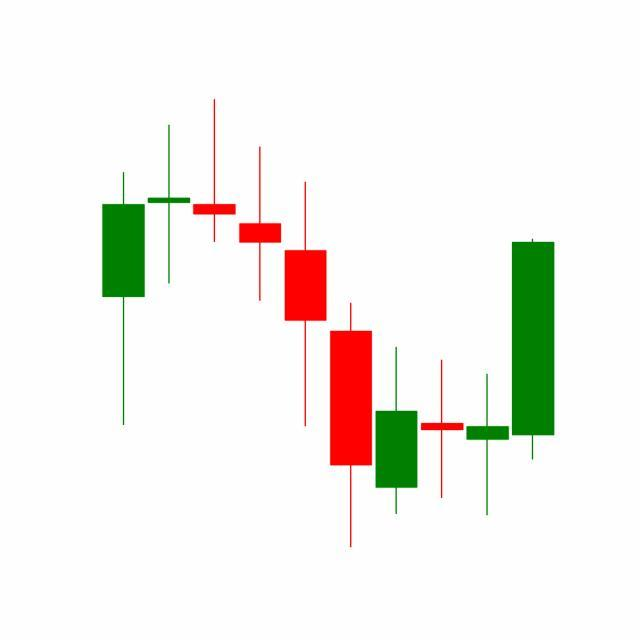Hikkake Pattern: (283, 178, 512, 549)
